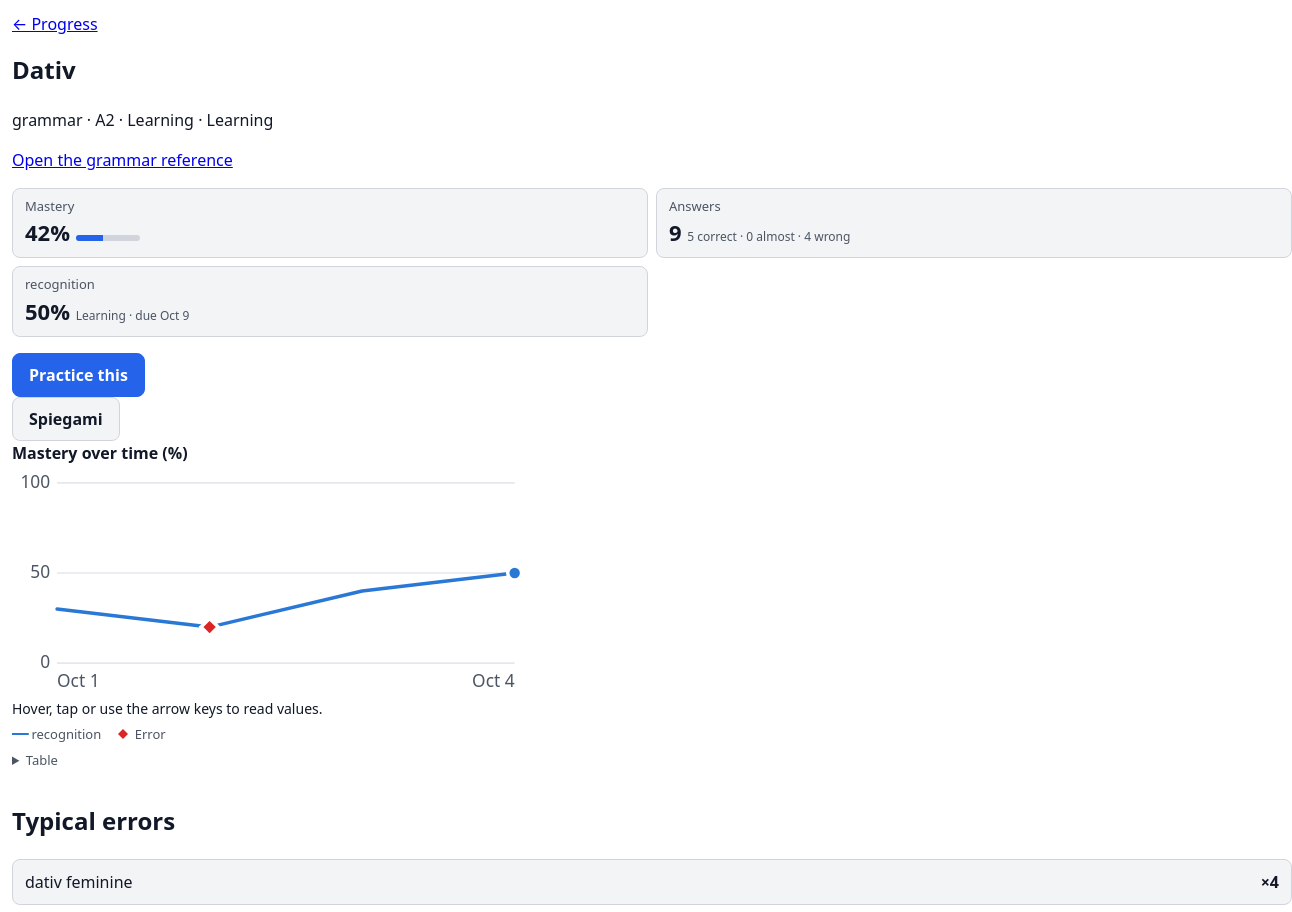
Scenario: progress item detail › reports practice refused (409) and the 0-slot case
Click the button "Practice this". click: (78, 375)
box: [12, 353, 145, 397]
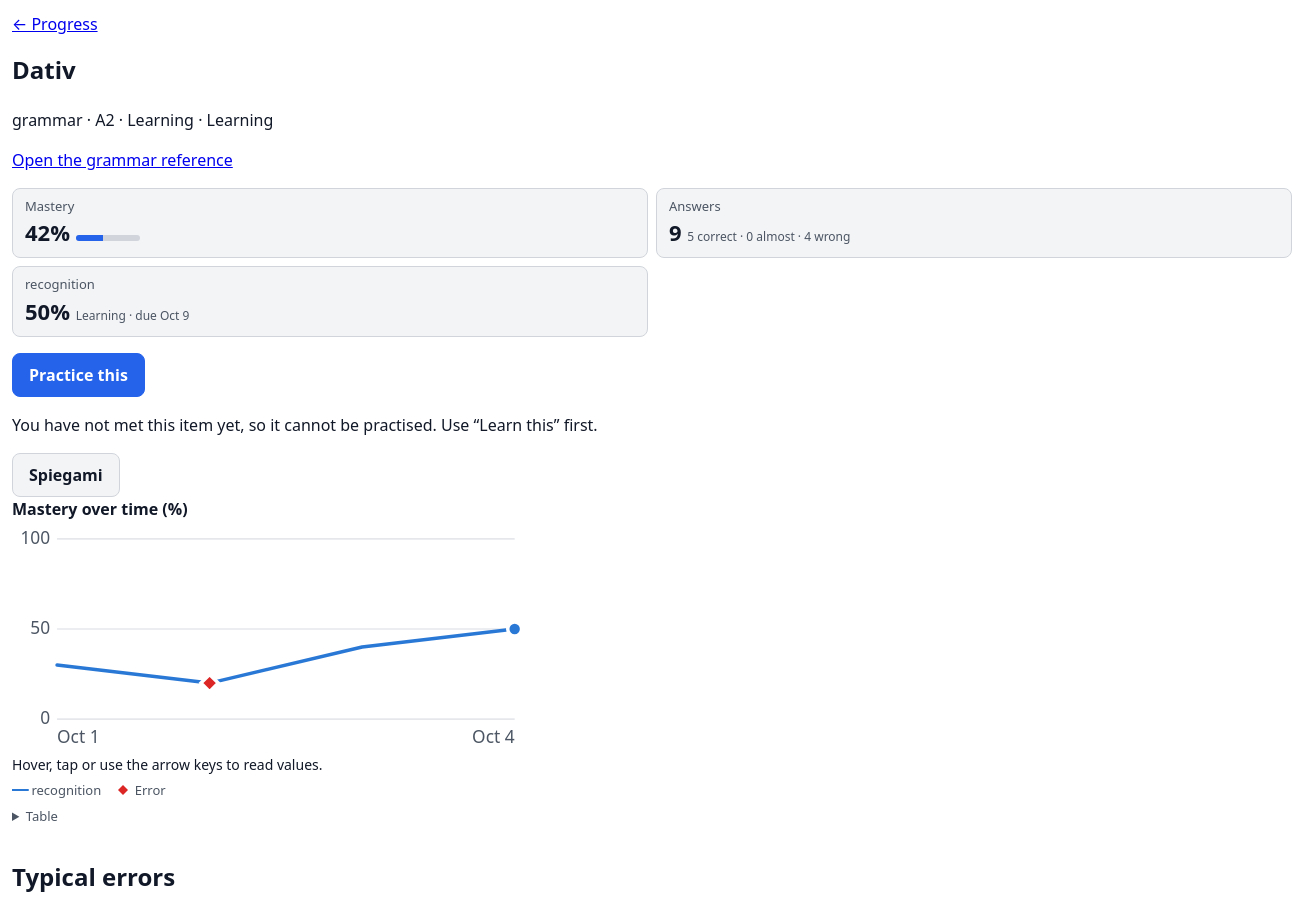
Result: the message shows "not met this item" at [12, 414, 598, 436]
Click the button "Practice this". click: (78, 375)
box: [12, 353, 145, 397]
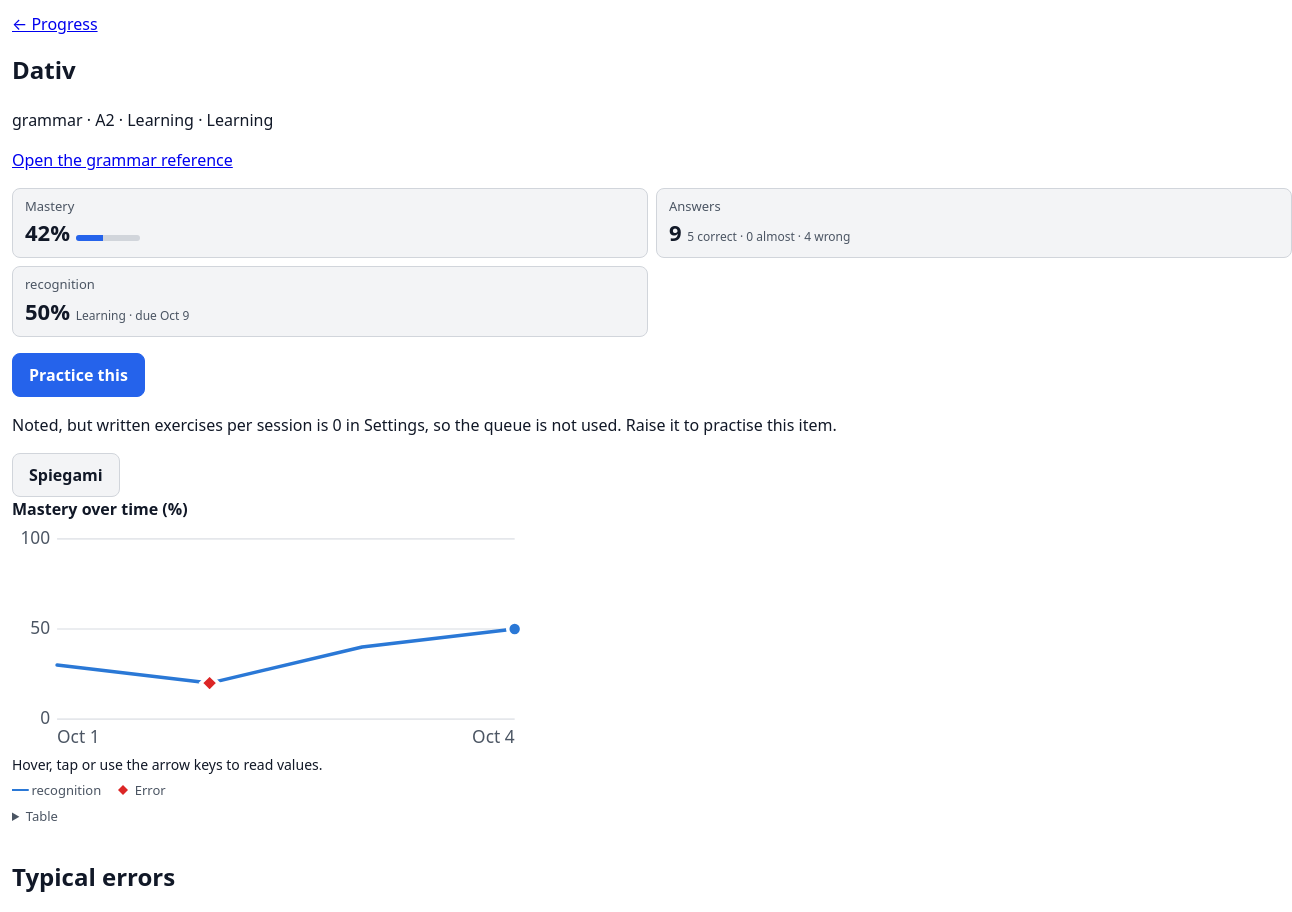
Result: the text "is 0 in Settings" is shown at [12, 414, 837, 436]
